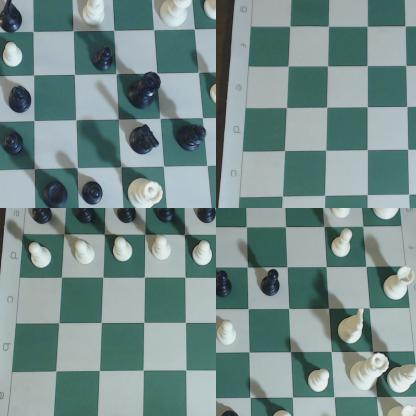black-bishop: (181, 118, 207, 154), (10, 83, 35, 116)
black-knight: (129, 124, 160, 158), (1, 1, 27, 36)
black-pawn: (260, 265, 284, 300), (81, 179, 106, 209), (2, 130, 28, 157), (217, 267, 237, 302), (96, 46, 115, 74), (73, 209, 98, 229), (29, 209, 53, 227), (154, 209, 178, 227), (115, 209, 141, 224), (198, 209, 216, 226), (220, 407, 241, 416)
black-queen: (127, 72, 162, 114)
black-rook: (41, 182, 73, 208)
white-bishop: (390, 356, 416, 396), (78, 1, 107, 30)
white-king: (158, 1, 201, 30)
white-knight: (338, 309, 369, 345), (204, 1, 216, 25)
white-pawn: (110, 235, 142, 273), (67, 235, 98, 273), (25, 236, 57, 272), (150, 235, 177, 272), (217, 316, 244, 352), (333, 226, 357, 266), (191, 240, 216, 278), (304, 363, 332, 395), (1, 43, 28, 73), (268, 401, 297, 416), (332, 209, 355, 222)
white-queen: (348, 349, 391, 394), (125, 173, 168, 208)
white-rook: (383, 269, 416, 309), (385, 404, 416, 416)
